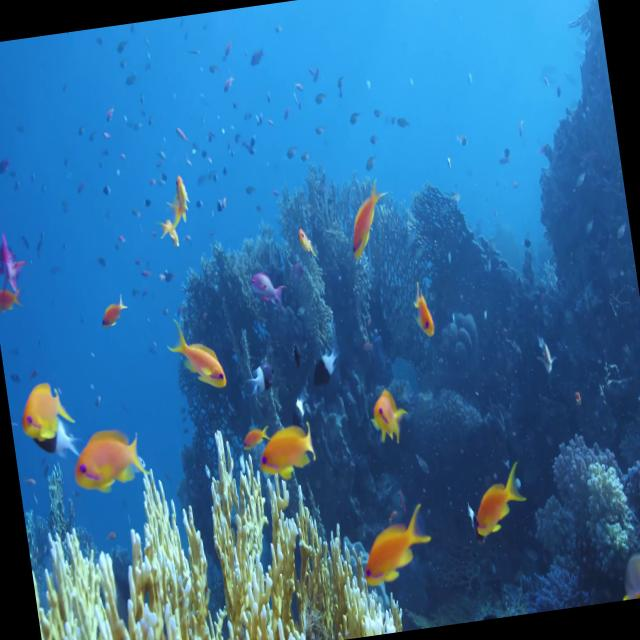fish: (344, 492, 443, 601), (57, 411, 155, 496), (162, 305, 238, 402), (6, 364, 79, 452), (335, 172, 398, 272), (461, 461, 535, 546), (246, 410, 322, 484), (147, 155, 200, 257), (400, 266, 446, 350), (242, 254, 292, 318), (367, 382, 416, 447), (0, 219, 33, 313), (85, 281, 137, 339), (238, 354, 285, 408), (522, 328, 561, 385), (288, 214, 326, 269), (312, 341, 349, 396), (616, 538, 640, 600)
